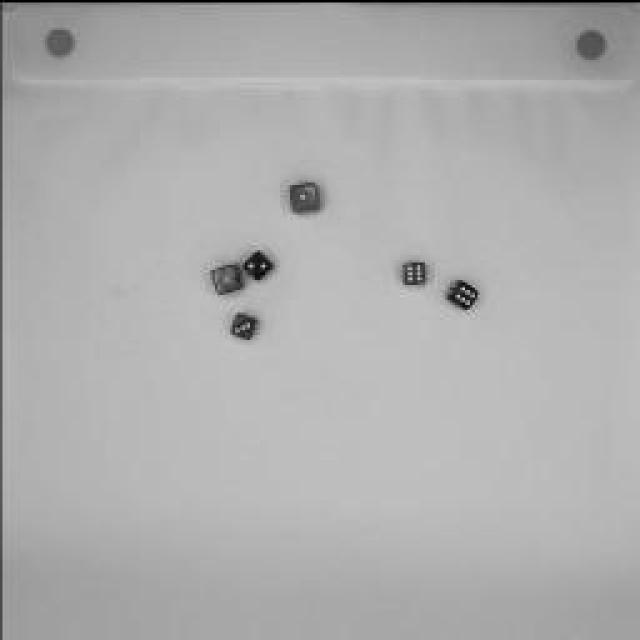dice_1: (280, 172, 325, 218), (207, 256, 245, 299)
dice_2: (240, 242, 278, 282)
dice_3: (224, 306, 261, 344)
dice_6: (441, 271, 481, 311), (395, 254, 433, 291)
